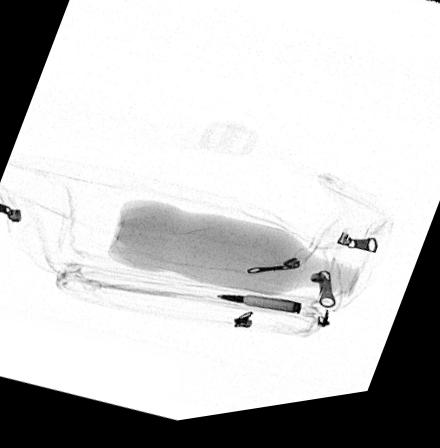Bullet: (215, 302, 301, 324)
